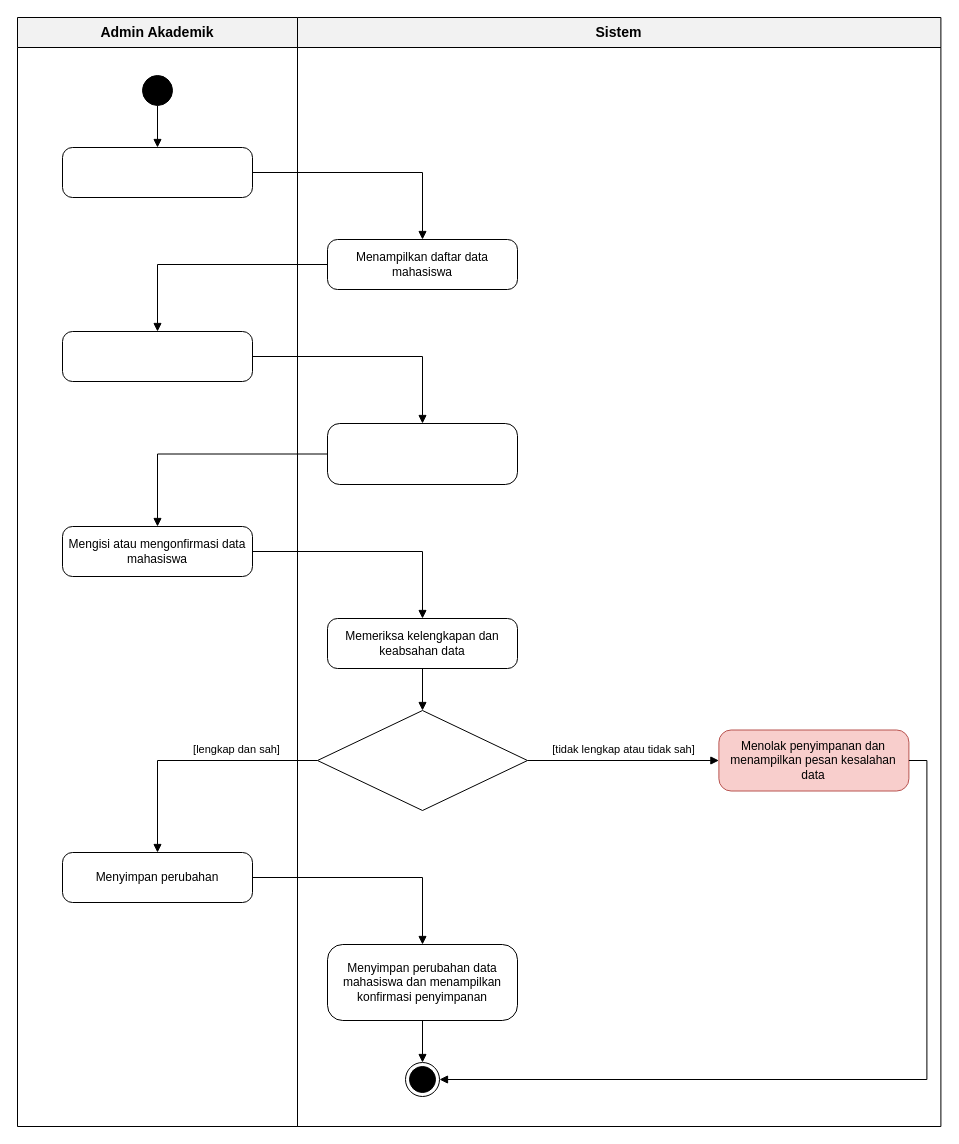
The diagram is 959 pixels wide and 1144 high, and some of its shapes have lost their labels. Here are the shapes that lost their labels. From the top down, the centre of each, then its label:
At (157,172): "Membuka fungsi Kelola Data Mahasiswa".
At (157,356): "Memilih bentuk pengelolaan (tambah, ubah, atau hapus)".
At (422,453): "Menampilkan formulir sesuai bentuk pengelolaan yang dipilih".
At (422,760): "Data lengkap dan sah?".
